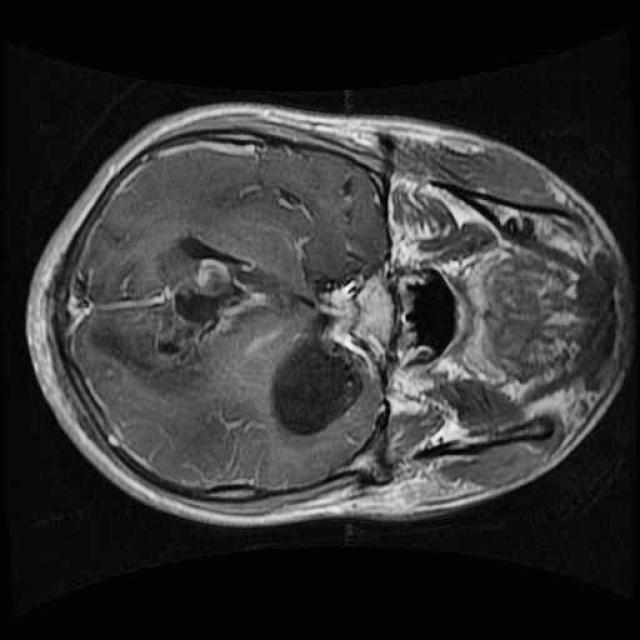Non-Tumor: (76, 205, 300, 421)
